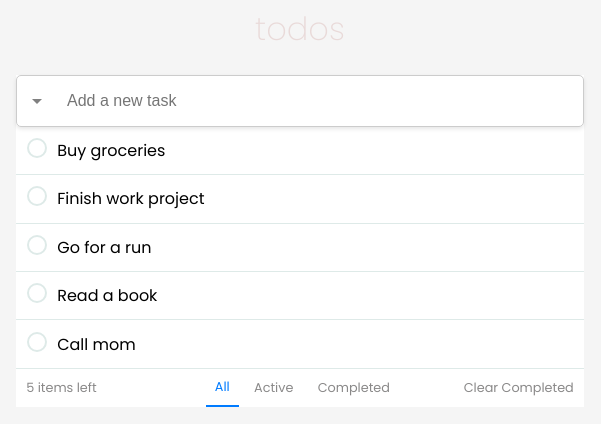
Test: Notes App funcionality › should display 0 items after clicking Active
Click the checkbox labelled "Buy groceries": (96, 151) x1=27 y1=138 x2=165 y2=163
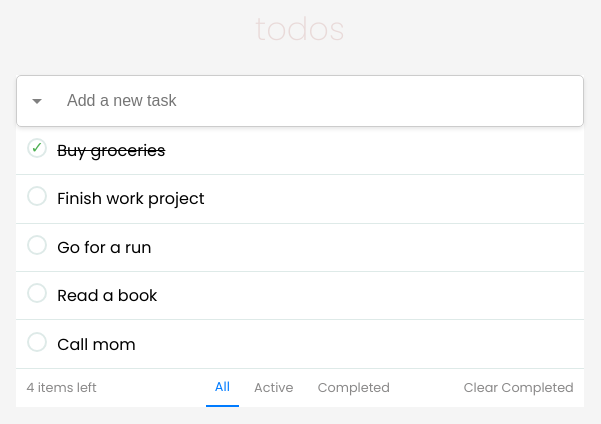
Click the checkbox labelled "Finish work project": (116, 199) x1=27 y1=186 x2=204 y2=211
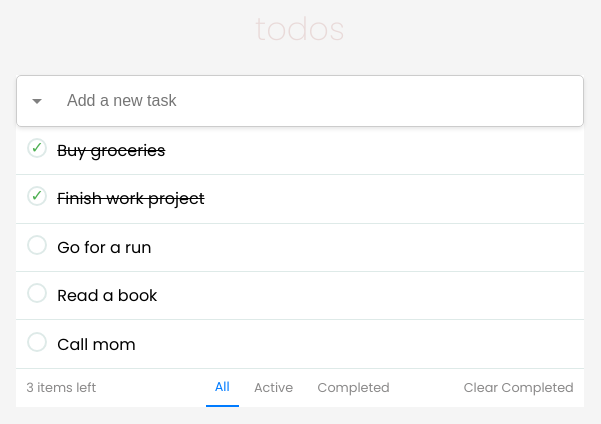
Click the checkbox labelled "Go for a run": (89, 248) x1=27 y1=235 x2=151 y2=260
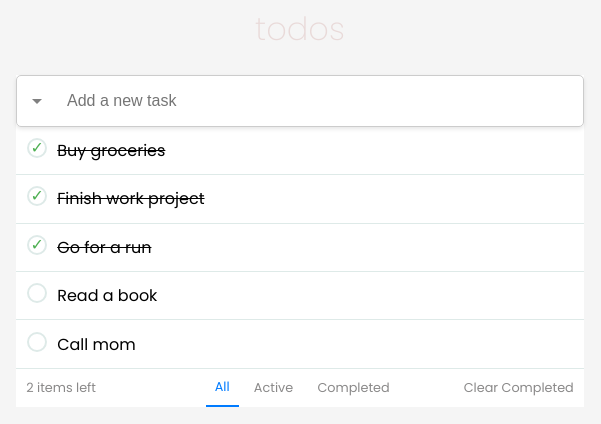
Click the checkbox labelled "Read a book": (92, 296) x1=27 y1=283 x2=157 y2=308
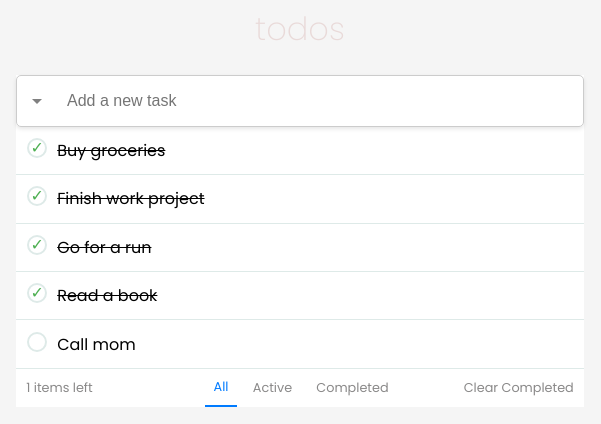
Click the checkbox labelled "Call mom": (82, 345) x1=27 y1=332 x2=136 y2=357
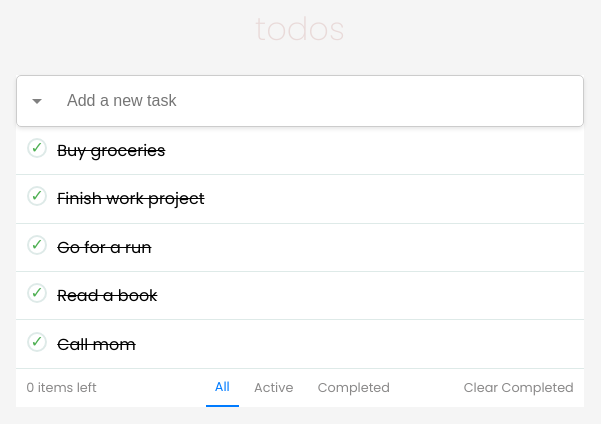
Click the button "Active": (274, 388) x1=245 y1=369 x2=302 y2=407
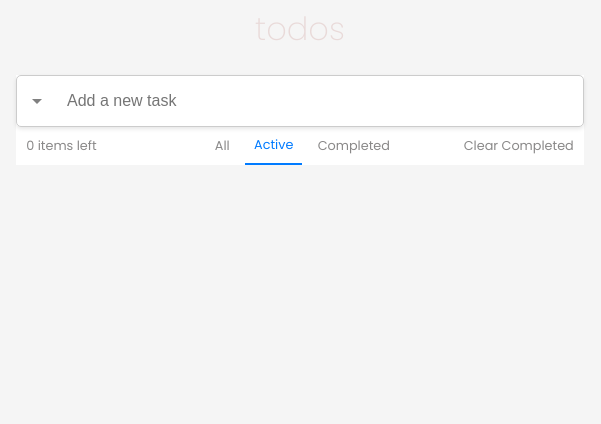
Result: the list item with class "todo-item" is gone
